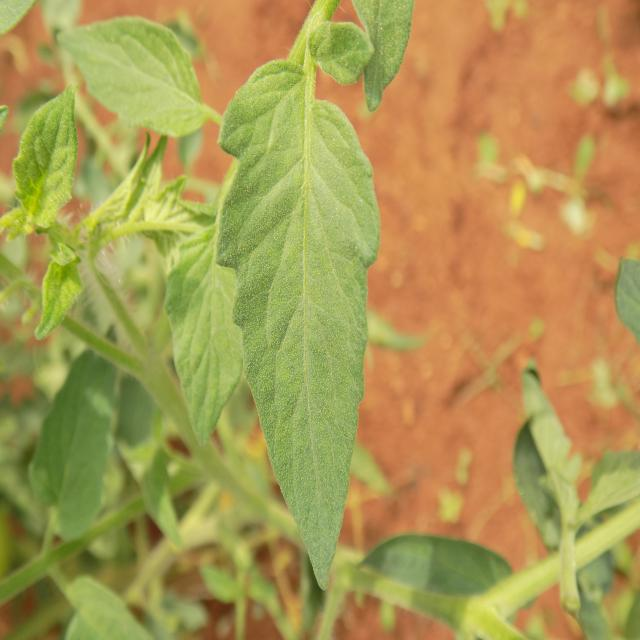tomato_healthy: (209, 58, 378, 588), (25, 320, 120, 545), (163, 204, 247, 436), (52, 19, 209, 141), (12, 78, 78, 229)
